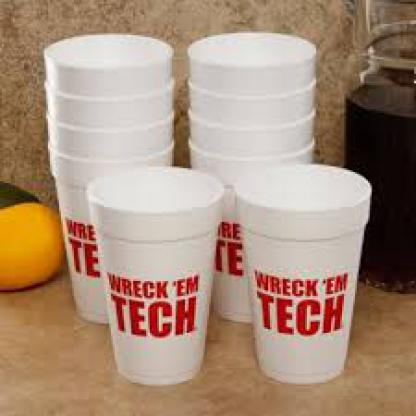book: (346, 76, 414, 294), (0, 200, 61, 294), (0, 177, 35, 211)
paper: (183, 29, 316, 324), (43, 27, 176, 322), (233, 163, 372, 381), (89, 162, 207, 382), (185, 139, 314, 322), (46, 140, 174, 322)
